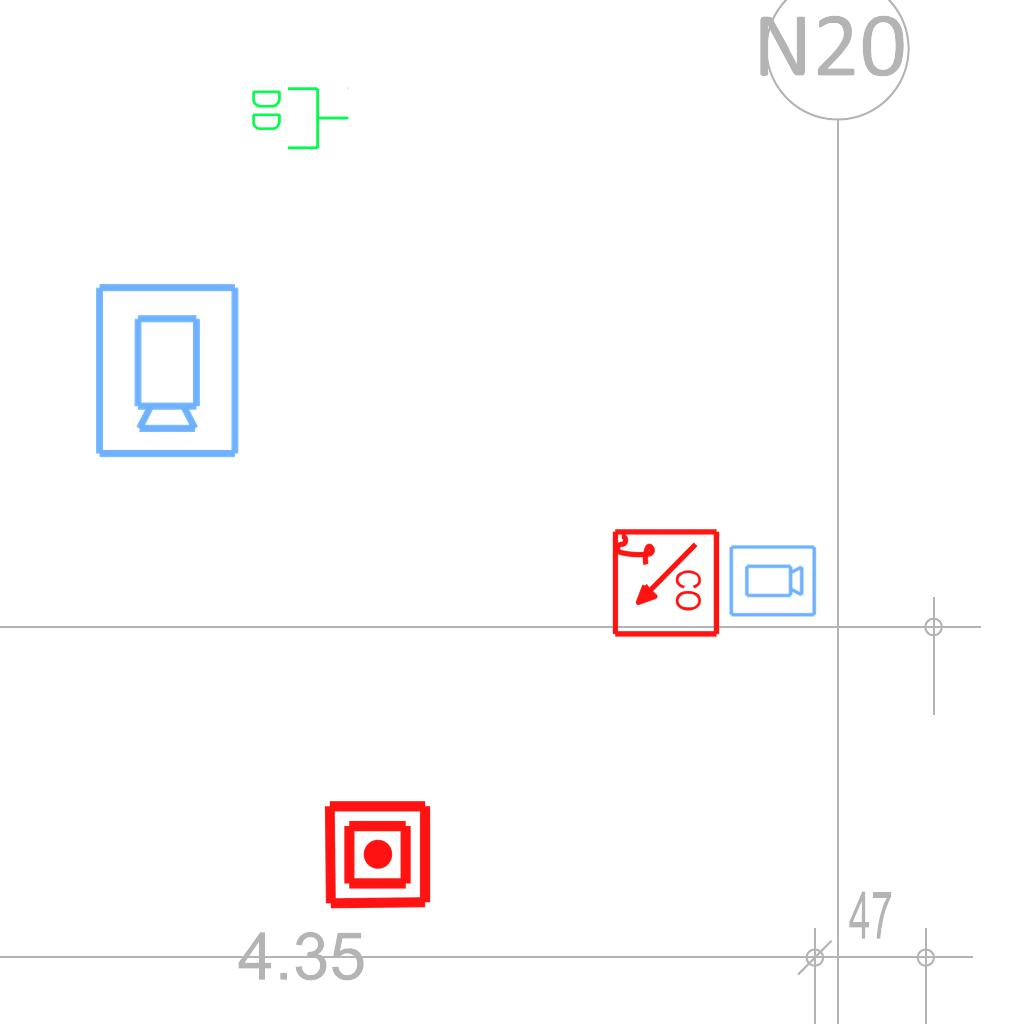Datenanschluss_zweifach: (248, 83, 351, 152)
KFO_Kamera_mit_Festobjektiv: (89, 279, 243, 461), (727, 543, 818, 620)
NAM-Nichtautomatischer_Melder: (321, 798, 434, 911)
ROA_Rauchmelder_optisch_mit_Signalgeber_(Sockelsirene): (608, 527, 721, 640)
